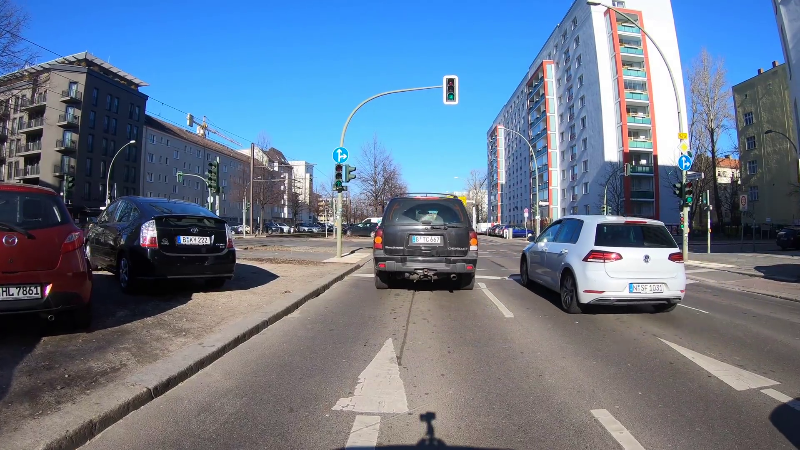Plate: (1, 282, 43, 299), (176, 233, 211, 245), (629, 282, 664, 293), (410, 233, 441, 243)
